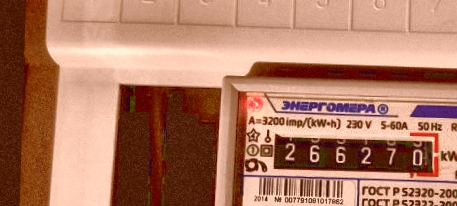0: (409, 146, 424, 166)
2: (282, 140, 296, 161), (359, 144, 373, 164)
6: (333, 143, 347, 163), (307, 142, 320, 163)
7: (385, 145, 396, 164)
screen: (261, 122, 445, 183)
